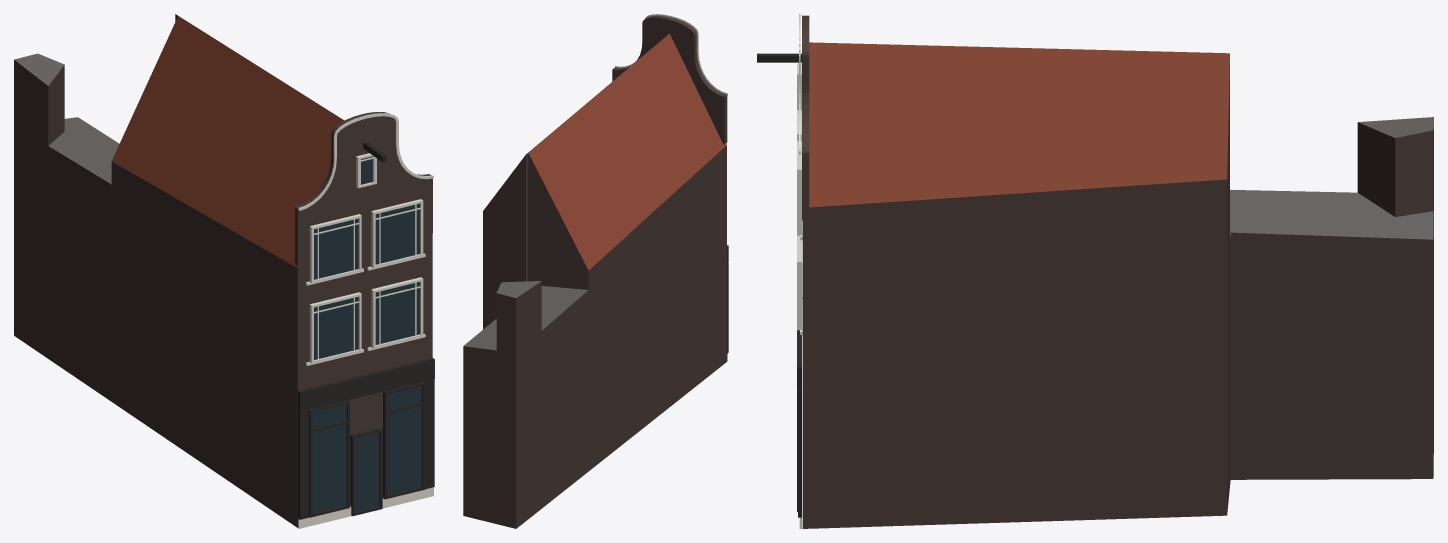
3 views of the same model, side by side, from view 1: azimuth 30°, elevation 25°; view 2: azimuth 150°, elevation 25°; view 3: azimuth 270°, elevation 25° (orthographic). The views are drawn at different scales.
Visible parts, largest first — view 1: spec-0363100012173480; view 2: spec-0363100012173480; view 3: spec-0363100012173480.
Part boxes in pixels (x1=…): spec-0363100012173480: x1=14, y1=14, x2=434, y2=528; spec-0363100012173480: x1=463, y1=14, x2=728, y2=528; spec-0363100012173480: x1=757, y1=14, x2=1433, y2=528.
Bounding box in the file's own units: 4.94 × 12.43 × 16.31.
